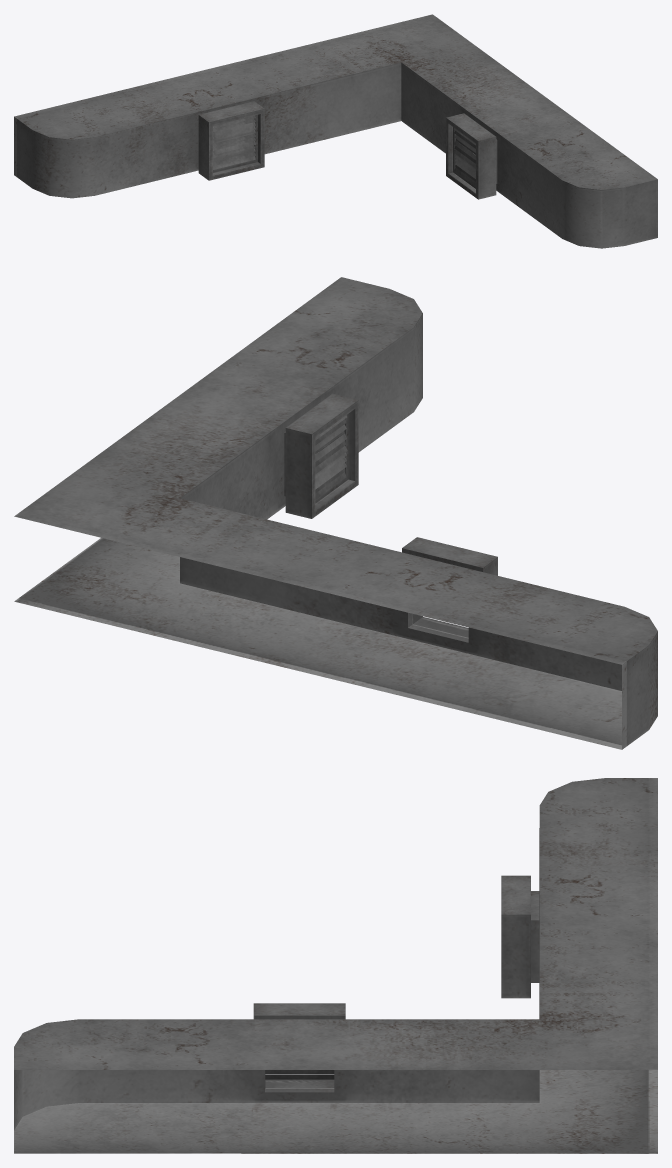
Rendered from Air duct.fbx.
3 views of the same model, one above another, from view 1: azimuth 30°, elevation 25°; view 2: azimuth 150°, elevation 25°; view 3: azimuth 270°, elevation 25° (orthographic). The views are drawn at different scales.
Parts seen in each view (by area): view 1: Object_7.002; view 2: Object_7.002; view 3: Object_7.002.
Part boxes in pixels (bbox=[...]): Object_7.002: bbox=[14, 14, 657, 248]; Object_7.002: bbox=[14, 277, 657, 749]; Object_7.002: bbox=[14, 778, 657, 1153].
Size of the model in its own units: 184 by 24.57 by 171.
1 material, 1 textured.
